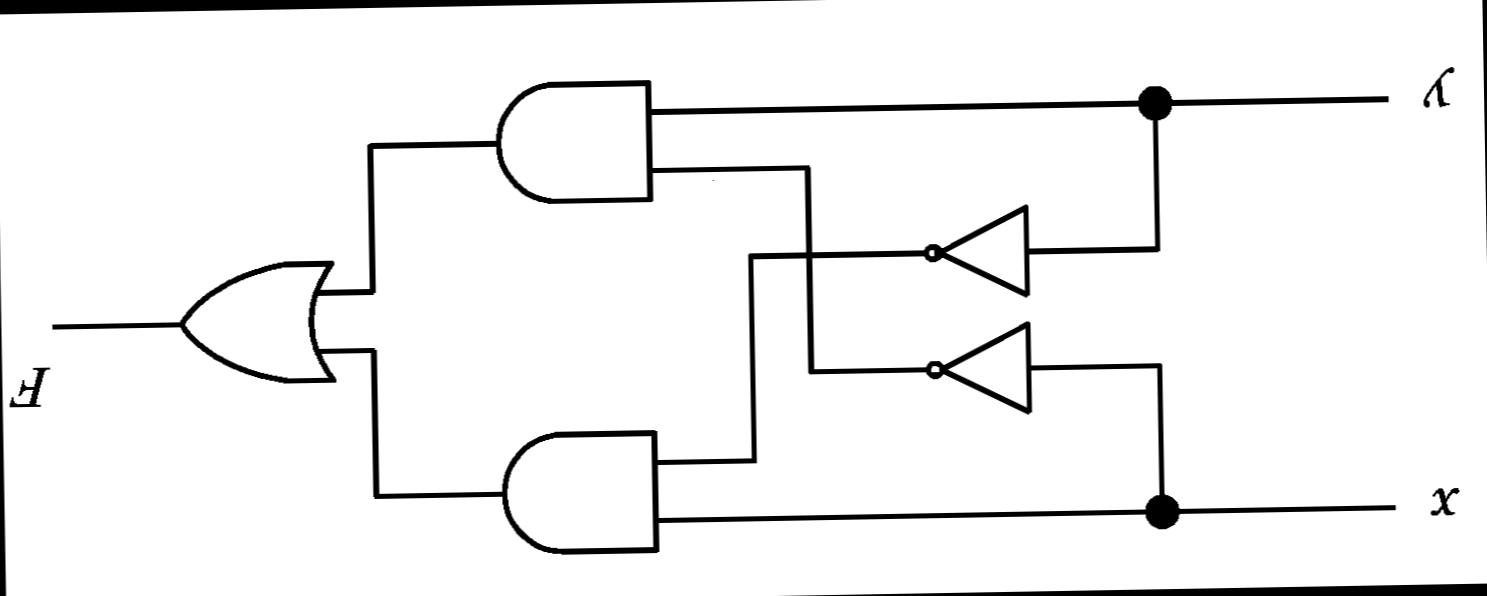and: (492, 420, 666, 563), (486, 72, 660, 214)
not: (914, 314, 1042, 424), (915, 196, 1035, 305)
or: (171, 250, 342, 393)
